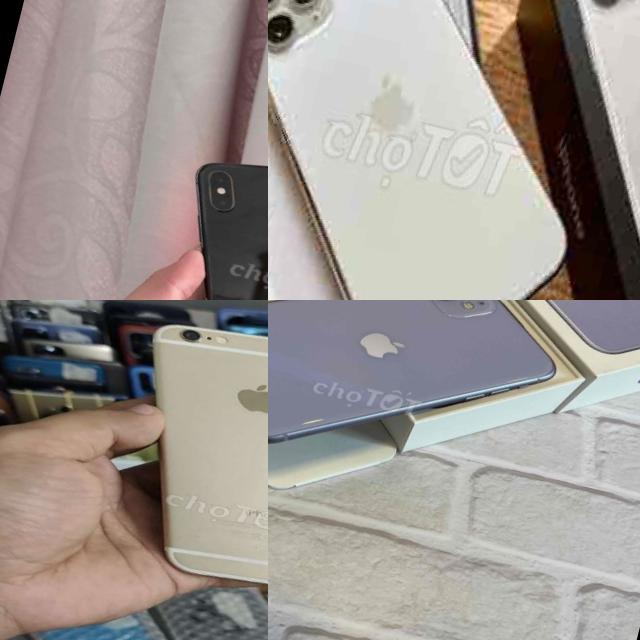gen_11: (268, 0, 640, 300), (268, 300, 554, 442)
gen_6: (154, 325, 268, 583)
gen_x_xs: (132, 134, 268, 300)
